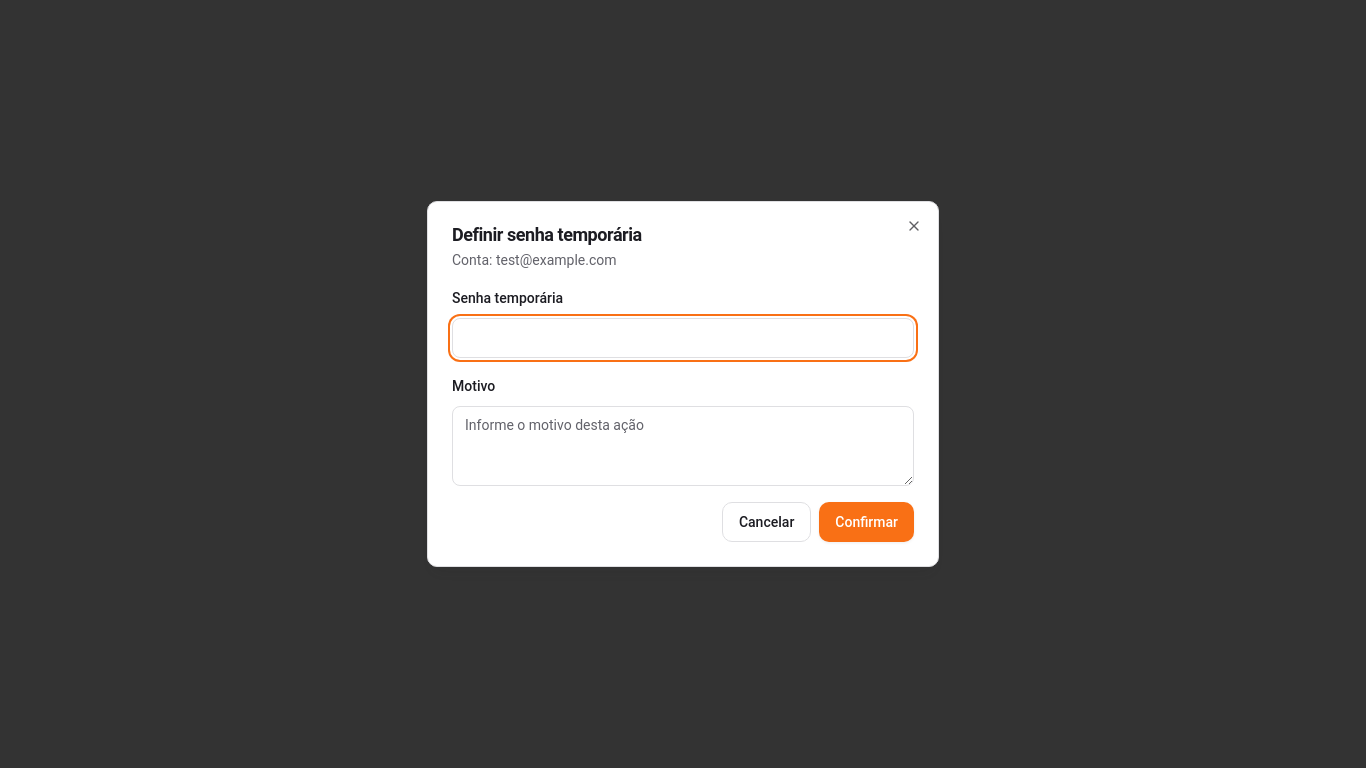
Test: Admin user action confirmations › rejects weak temporary passwords before calling the service
This screenshot has width=1366, height=768.
Type "weak" into the password field labelled "Senha temporária" at (683, 338), box [452, 318, 914, 358]
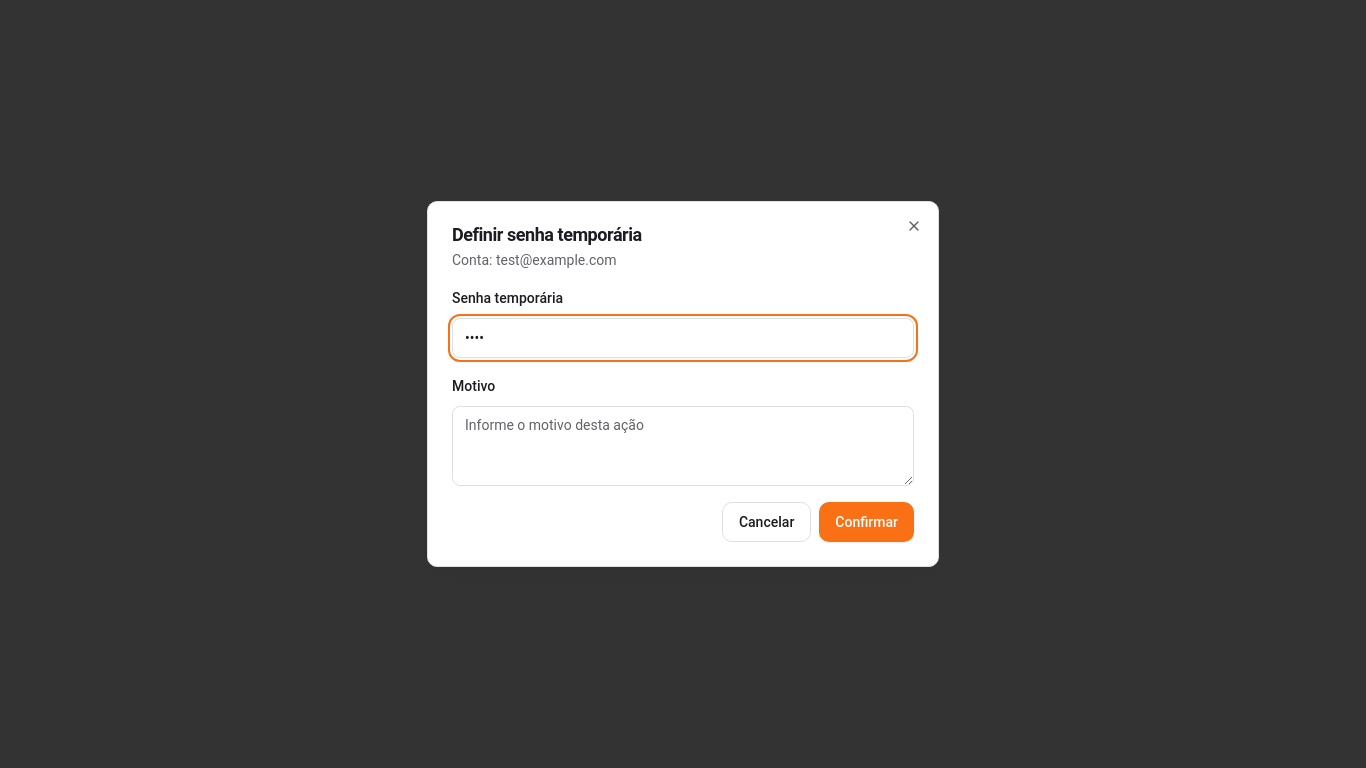
Type "Sem acesso ao e-mail" into the text box labelled "Motivo" at (683, 446), box [452, 406, 914, 486]
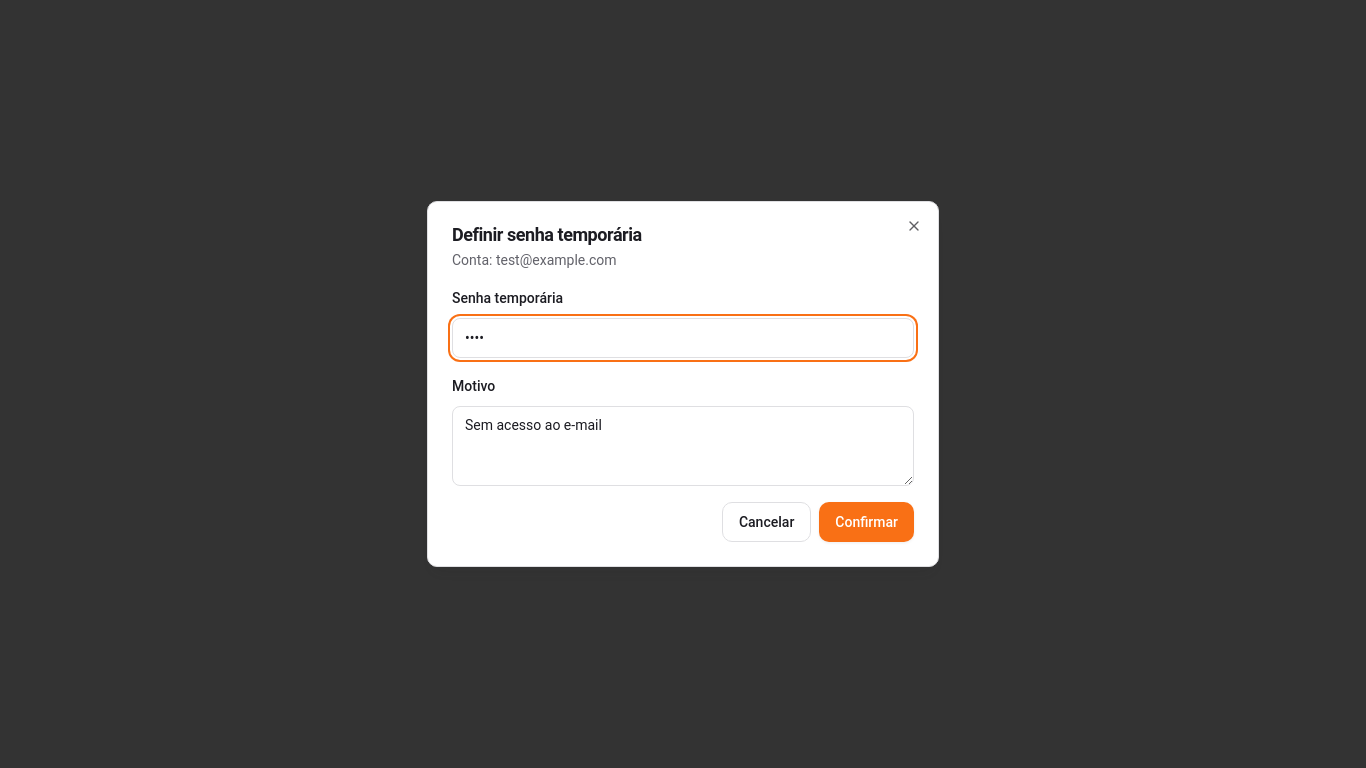
Click the button "Confirmar" at (867, 522), box [819, 502, 914, 542]
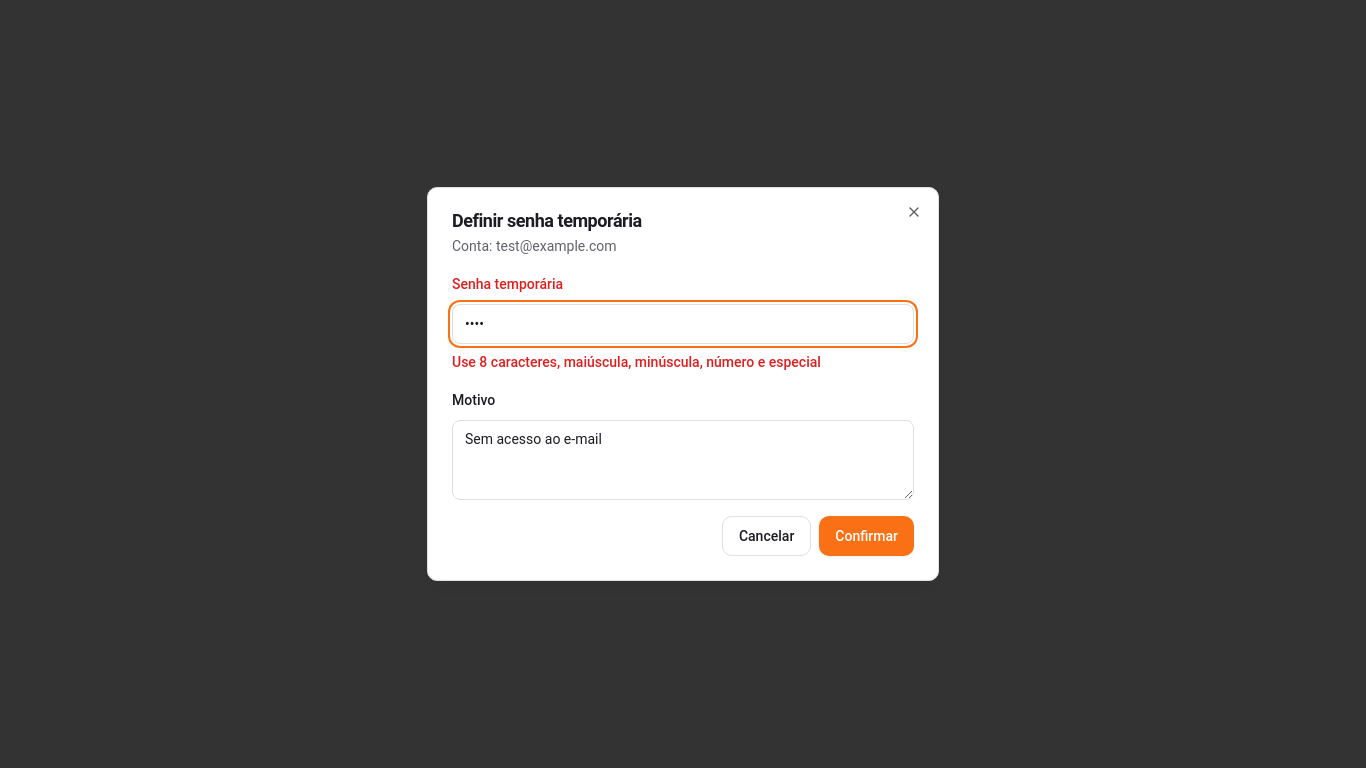
Expected: the text "Use 8 caracteres, maiúscula, minúscula, número e especial" is shown, [452, 354, 821, 370]
